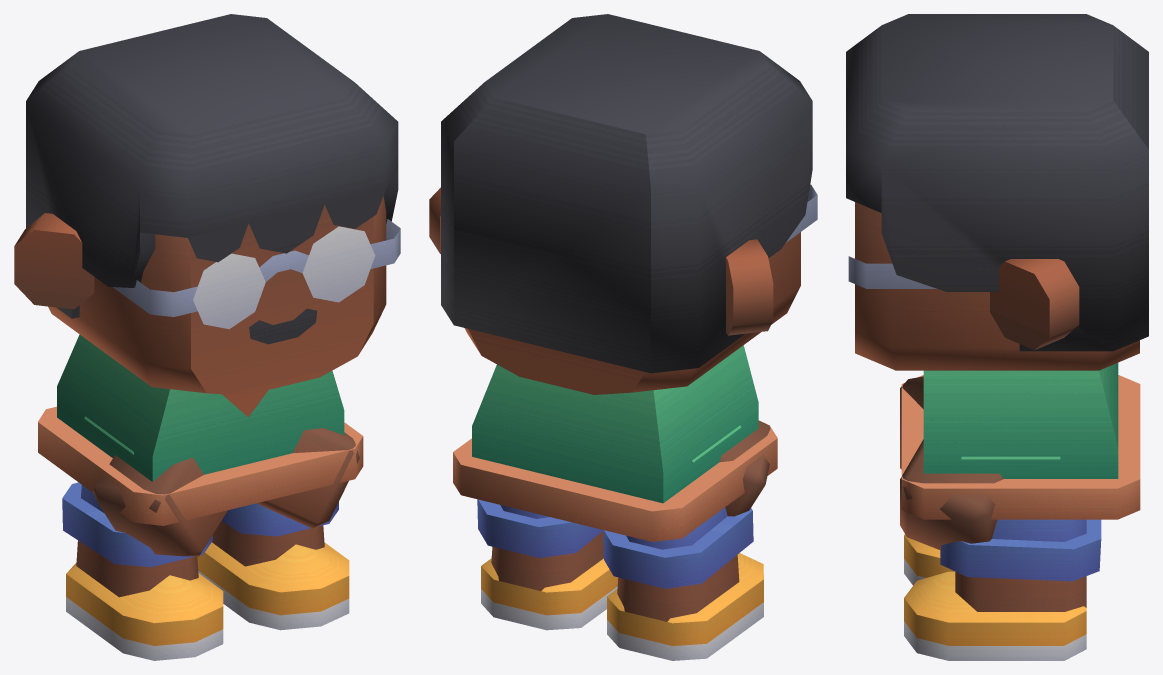
The model's file is character-male-a-cheer.glb.
3 views of the same model, side by side, from view 1: azimuth 30°, elevation 25°; view 2: azimuth 150°, elevation 25°; view 3: azimuth 270°, elevation 25° (orthographic).
Parts seen in each view (by area): view 1: character-male-a-cheer; view 2: character-male-a-cheer; view 3: character-male-a-cheer.
Part boxes in pixels (x1,y1,x2,y2): character-male-a-cheer: [14, 14, 400, 660]; character-male-a-cheer: [429, 14, 817, 660]; character-male-a-cheer: [846, 14, 1148, 660].
Bounding box in the file's own units: 0.4535 × 0.6713 × 0.34.
1 material, 1 textured.
